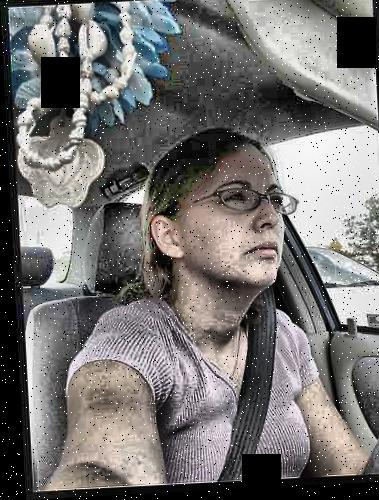seatbelt: (171, 266, 297, 467)
